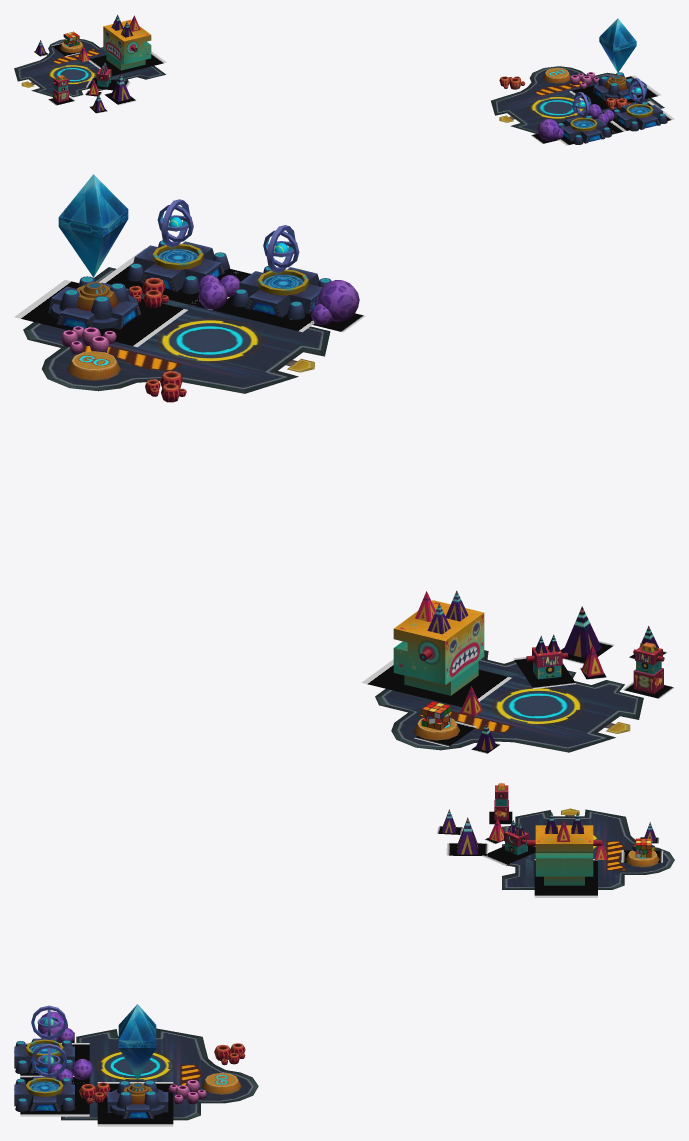
The model's file is JJC_startK_A.glb.
The picture shows the model from 3 angles, top to bottom: view 1: azimuth 30°, elevation 25°; view 2: azimuth 150°, elevation 25°; view 3: azimuth 270°, elevation 25°; orthographic projection. The views are drawn at different scales.
Parts seen in each view (by area): view 1: GB (×2), senceX_propsB_A, senceX_A_zuanshiA, shadows_A (7) (×2), senceX_A_dizuoA, senceX_A_dizuoA (1), senceX_A_dizuoB, senceX_qiu (5), senceX_propsB_M, go, senceX_A_zuanshiC (2), senceX_A_zuanshiC (1) (+5 smaller); view 2: GB (×2), senceX_propsB_A, shadows_A (7) (×2), senceX_A_zuanshiA, senceX_A_dizuoB, senceX_A_dizuoA (1), senceX_A_dizuoA, senceX_propsB_M, senceX_qiu (5), go, shadows_A (8), senceX_A_zuanshiC (1) (+6 smaller); view 3: GB (×2), senceX_propsB_A, shadows_A (7) (×2), senceX_A_dizuoA, senceX_A_dizuoB, senceX_A_zuanshiA, shadows_A (8) (×2), senceX_A_dizuoA (1), go, senceX_A_zuanshiC (1), senceX_A_zuanshiC (2), propsC_planE (+4 smaller).
Part boxes in pixels (box(x1,y1,x2,y2)): GB (×2): box(14, 39, 664, 133); senceX_propsB_A: box(103, 14, 151, 70); senceX_A_zuanshiA: box(599, 18, 636, 72); shadows_A (7) (×2): box(88, 51, 661, 109); senceX_A_dizuoA: box(613, 102, 667, 131); senceX_A_dizuoA (1): box(558, 115, 611, 144); senceX_A_dizuoB: box(593, 72, 639, 100); senceX_qiu (5): box(537, 119, 559, 140); senceX_propsB_M: box(52, 75, 69, 102); go: box(543, 68, 570, 83); senceX_A_zuanshiC (2): box(628, 78, 647, 103); senceX_A_zuanshiC (1): box(572, 92, 591, 116); GB (×2): box(23, 267, 643, 752); senceX_propsB_A: box(393, 590, 484, 695); shadows_A (7) (×2): box(14, 280, 511, 707); senceX_A_zuanshiA: box(58, 174, 128, 277); senceX_A_dizuoB: box(48, 276, 140, 329); senceX_A_dizuoA (1): box(231, 266, 331, 319); senceX_A_dizuoA: box(126, 240, 229, 294); senceX_propsB_M: box(633, 642, 664, 693); senceX_qiu (5): box(317, 280, 359, 321); go: box(67, 351, 120, 380); shadows_A (8): box(99, 248, 250, 309); senceX_A_zuanshiC (1): box(263, 225, 299, 272); GB (×2): box(61, 809, 674, 1120); senceX_propsB_A: box(527, 812, 601, 885); shadows_A (7) (×2): box(97, 859, 597, 1126); senceX_A_dizuoA: box(14, 1076, 75, 1111); senceX_A_dizuoB: box(107, 1080, 168, 1118); senceX_A_zuanshiA: box(118, 1004, 156, 1079); shadows_A (8) (×2): box(20, 846, 535, 1116); senceX_A_dizuoA (1): box(14, 1038, 74, 1073); go: box(202, 1073, 241, 1094); senceX_A_zuanshiC (1): box(31, 1005, 66, 1039); senceX_A_zuanshiC (2): box(31, 1043, 66, 1077); propsC_planE: box(168, 1080, 206, 1104).
Size of the model in its own units: 72.78 by 11.2 by 63.75.
8 materials, 8 textured.
